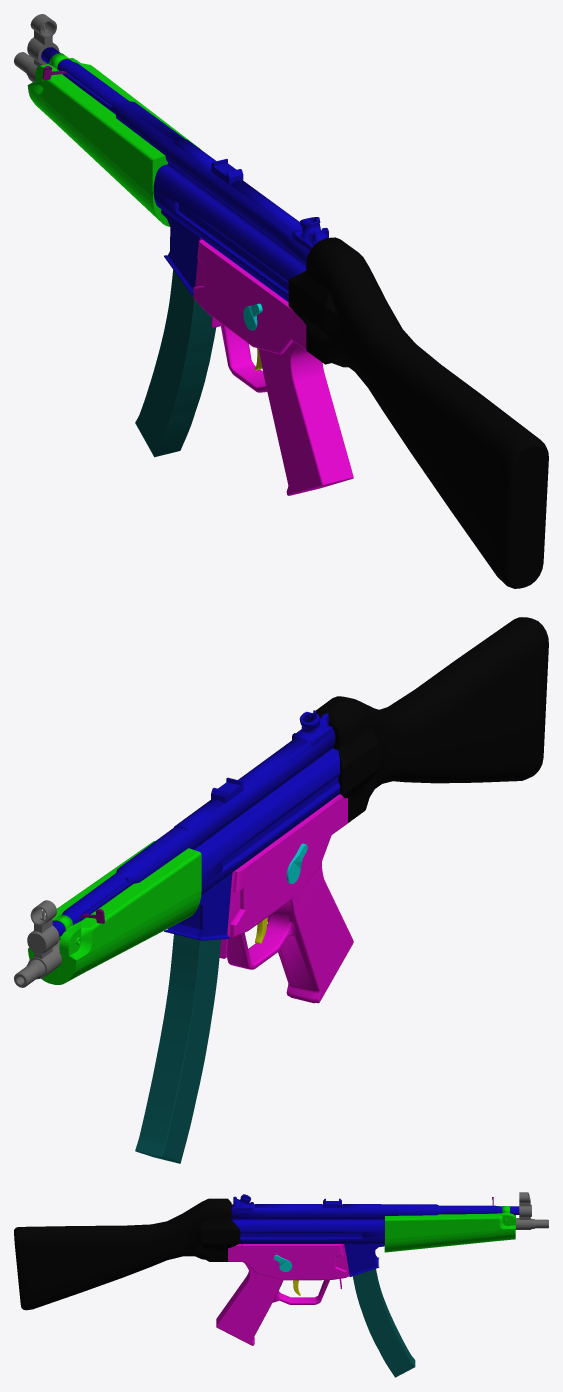
3 views of the same model, one above another, from view 1: azimuth 30°, elevation 25°; view 2: azimuth 150°, elevation 25°; view 3: azimuth 270°, elevation 25° (orthographic). The views are drawn at different scales.
Visible parts, largest first — view 1: ButtStock, Upper_Receiver, Lower_Receiver, Hand Guard, Magazine, Muzzle & Fore Sight Tip; view 2: ButtStock, Upper_Receiver, Lower_Receiver, Magazine, Hand Guard, Muzzle & Fore Sight Tip; view 3: ButtStock, Upper_Receiver, Lower_Receiver, Hand Guard, Magazine, Muzzle & Fore Sight Tip.
Part boxes in pixels (<box>): ButtStock: <box>288,237,548,588</box>; Upper_Receiver: <box>41,47,328,301</box>; Lower_Receiver: <box>193,238,353,495</box>; Hand Guard: <box>27,53,200,226</box>; Magazine: <box>135,270,216,457</box>; Muzzle & Fore Sight Tip: <box>14,14,59,81</box>; ButtStock: <box>316,617,548,822</box>; Upper_Receiver: <box>52,710,340,940</box>; Lower_Receiver: <box>219,794,353,1003</box>; Magazine: <box>135,934,221,1163</box>; Hand Guard: <box>28,841,201,984</box>; Muzzle & Fore Sight Tip: <box>14,900,61,987</box>; ButtStock: <box>14,1198,240,1310</box>; Upper_Receiver: <box>231,1194,519,1276</box>; Lower_Receiver: <box>216,1244,349,1345</box>; Hand Guard: <box>384,1206,515,1252</box>; Magazine: <box>353,1269,415,1377</box>; Muzzle & Fore Sight Tip: <box>515,1192,548,1229</box>.
Size of the model in its own units: 58.22 by 334 by 894.
